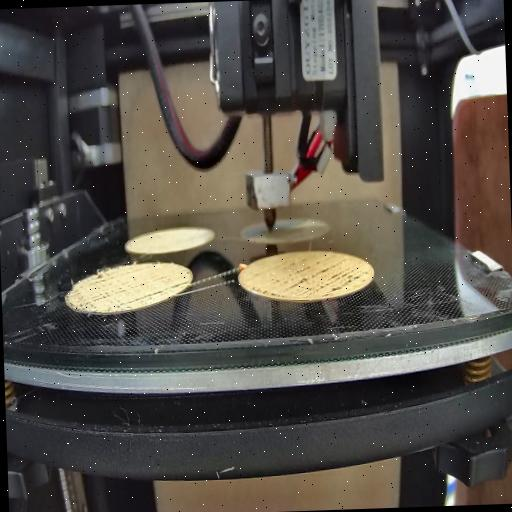under_extrusion: (76, 266, 191, 310), (248, 260, 372, 300)
